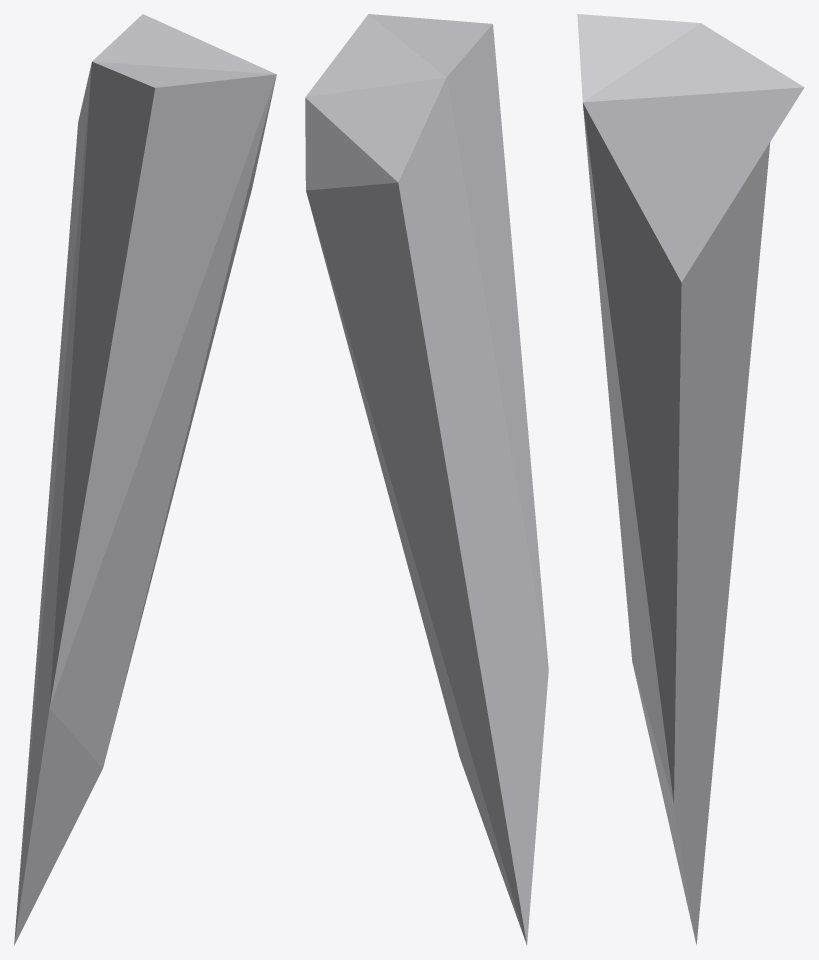
The model's file is YN_SkullTeeth4.fbx.
3 renders of one model, left to right at view 1: azimuth 30°, elevation 25°; view 2: azimuth 150°, elevation 25°; view 3: azimuth 270°, elevation 25°, orthographic. The views are drawn at different scales.
Visible parts, largest first — view 1: YN_SkullTeeth4; view 2: YN_SkullTeeth4; view 3: YN_SkullTeeth4.
Boxes of the visible parts, x1,y1,x2,y2 form: YN_SkullTeeth4: (14,14,276,945); YN_SkullTeeth4: (305,14,548,944); YN_SkullTeeth4: (577,14,804,945).
Size of the model in its own units: 0.5341 by 1.93 by 0.4061.
